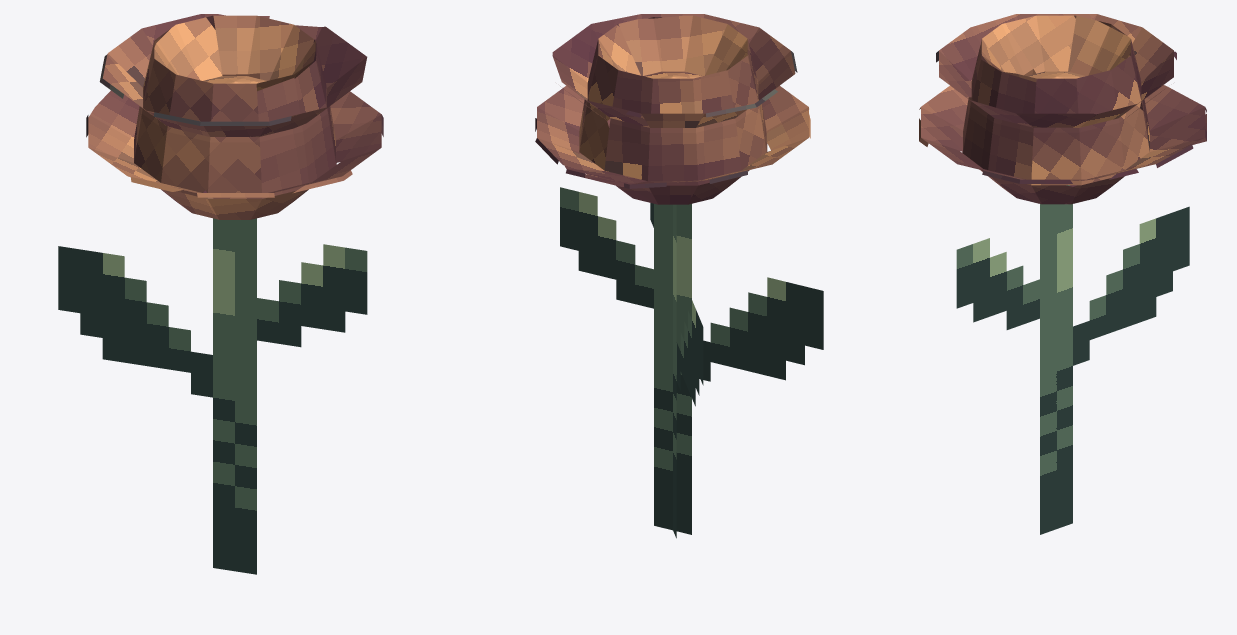
File: marrigold.obj
3 views of the same model, side by side, from view 1: azimuth 30°, elevation 25°; view 2: azimuth 150°, elevation 25°; view 3: azimuth 270°, elevation 25° (orthographic). The views are drawn at different scales.
Visible parts, largest first — view 1: plane; view 2: plane; view 3: plane.
Part boxes in pixels (x1,y1,x2,y2): plane: (58, 14, 383, 574); plane: (535, 14, 823, 538); plane: (919, 14, 1206, 534).
Bounding box in the file's own units: 0.625 × 0.7656 × 0.4788.
1 material, 1 textured.
